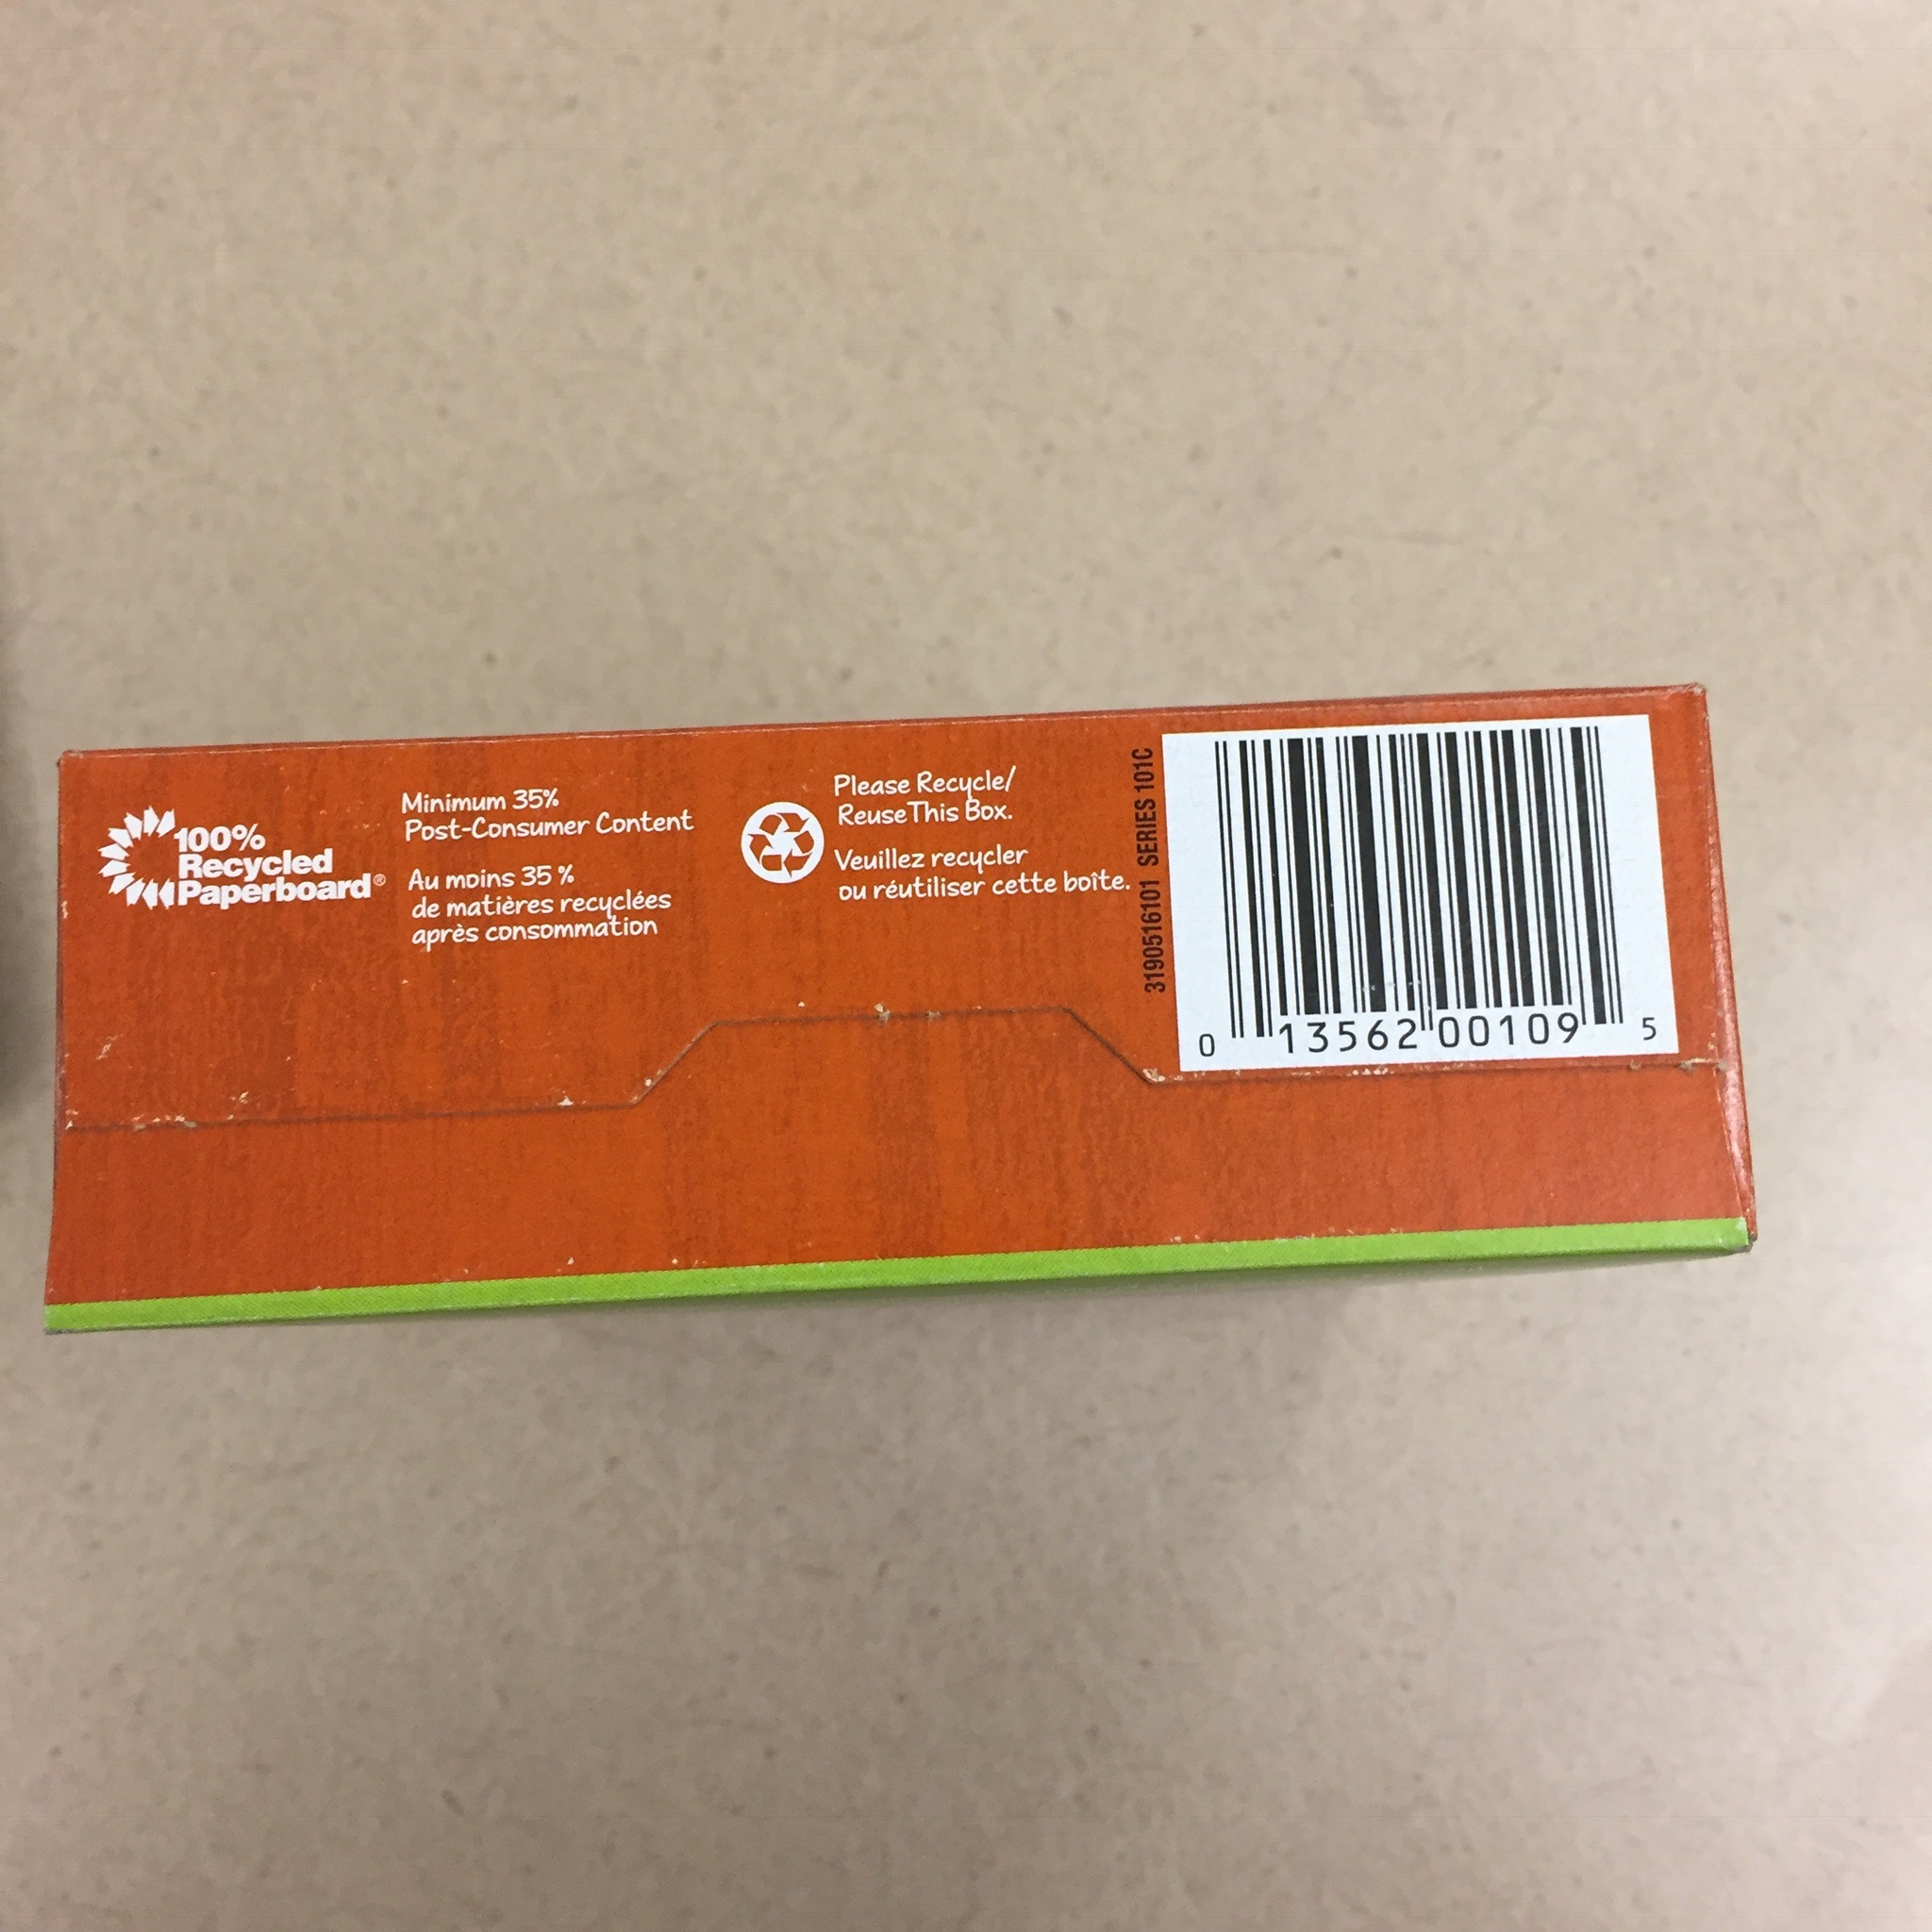annies_snickerdoodle_cinnamon_sugar: (37, 681, 1764, 1343)
